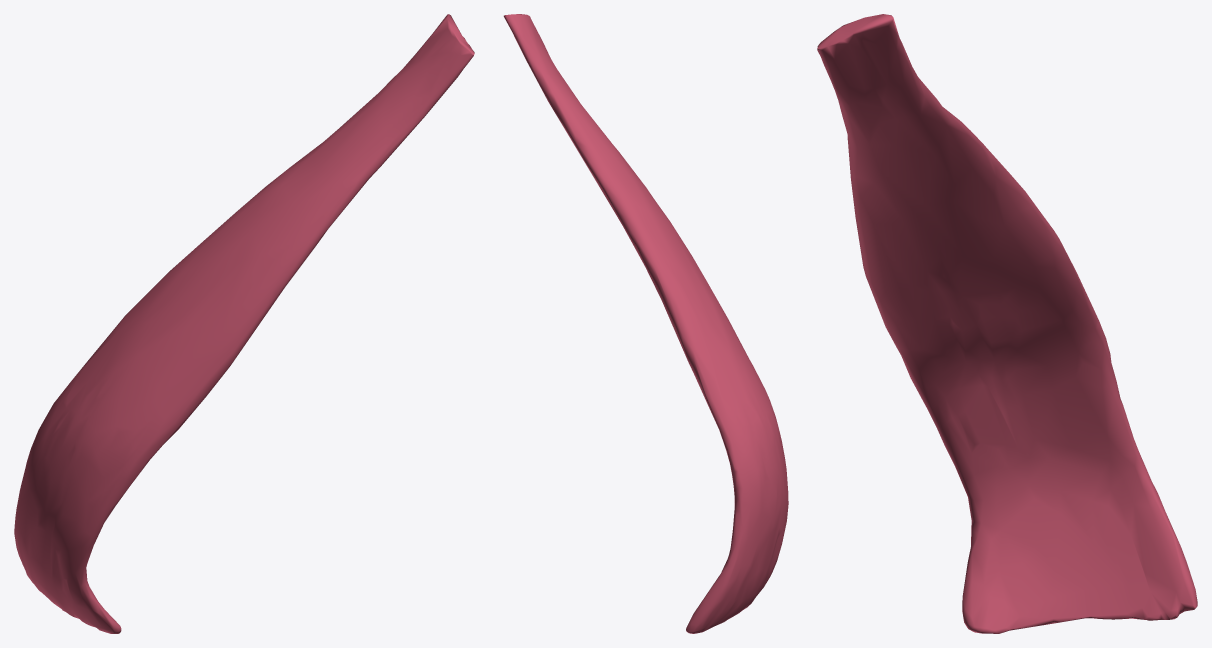
3 renders of one model, left to right at view 1: azimuth 30°, elevation 25°; view 2: azimuth 150°, elevation 25°; view 3: azimuth 270°, elevation 25°, orthographic. The views are drawn at different scales.
Parts seen in each view (by area): view 1: 右侧外直肌; view 2: 右侧外直肌; view 3: 右侧外直肌.
Boxes of the visible parts, x1,y1,x2,y2 form: 右侧外直肌: (14, 14, 474, 633); 右侧外直肌: (503, 14, 788, 633); 右侧外直肌: (817, 14, 1197, 633).
Bounding box in the file's own units: 0.039 × 0.0586 × 0.0243.
